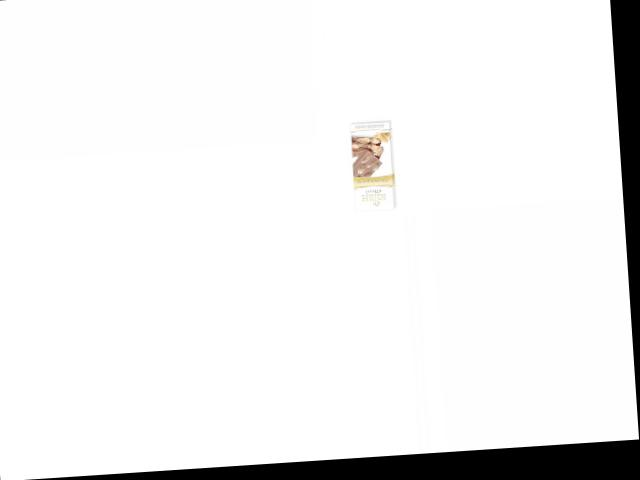chocolate: (340, 120, 404, 217)
